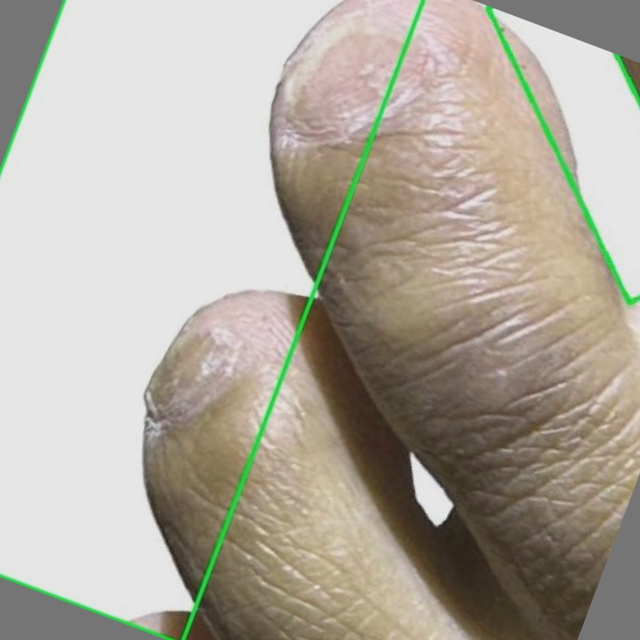Tinea Corporis: (0, 0, 423, 639), (486, 6, 639, 302)
